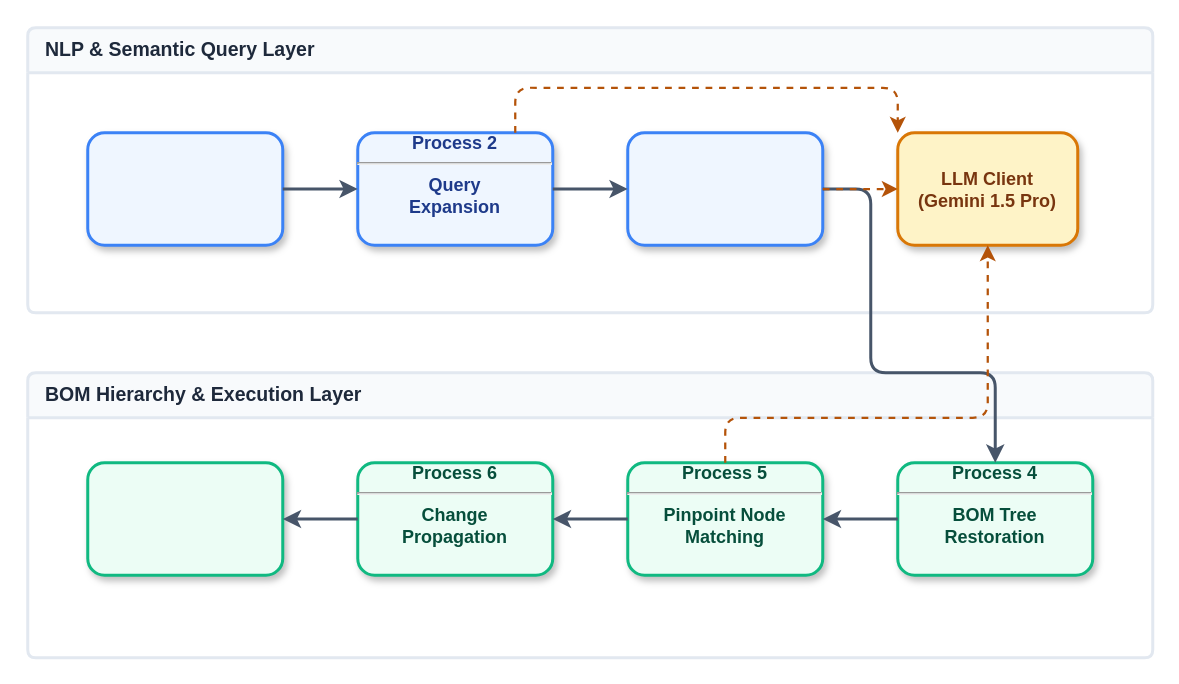
This 1179x684 diagram has some shape labels left out. The centre of each missing label's shape, as x and y in pixels:
Process 1 PPTX Input Parsing: (186,190)
Process 3 Self- Verification: (726,190)
Process 7 Formatted Excel Write: (186,520)
